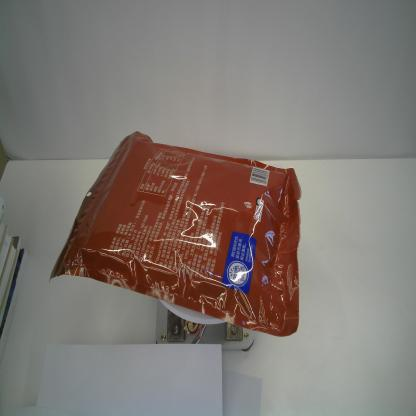Dried Food: (46, 131, 302, 338)
